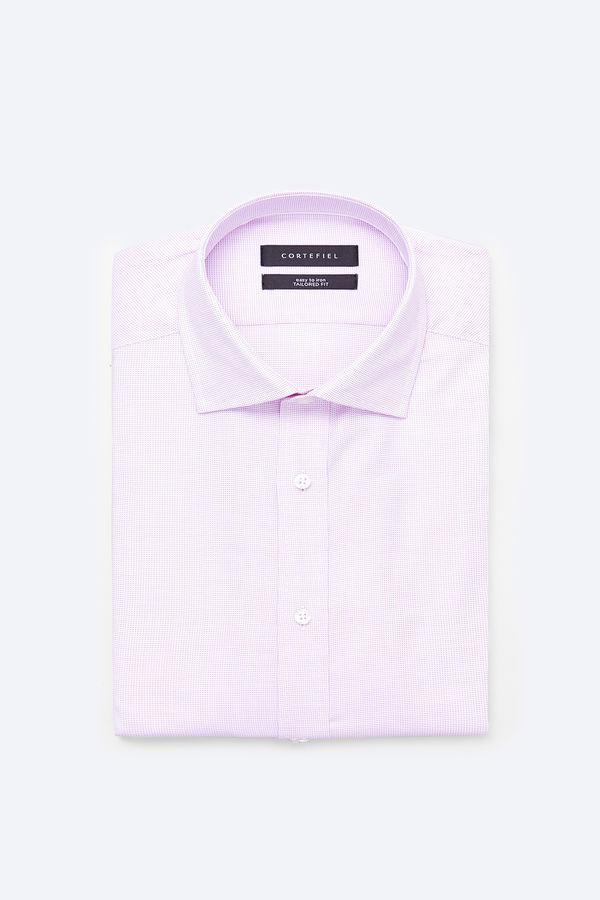teeshirt: (87, 185, 512, 756)
